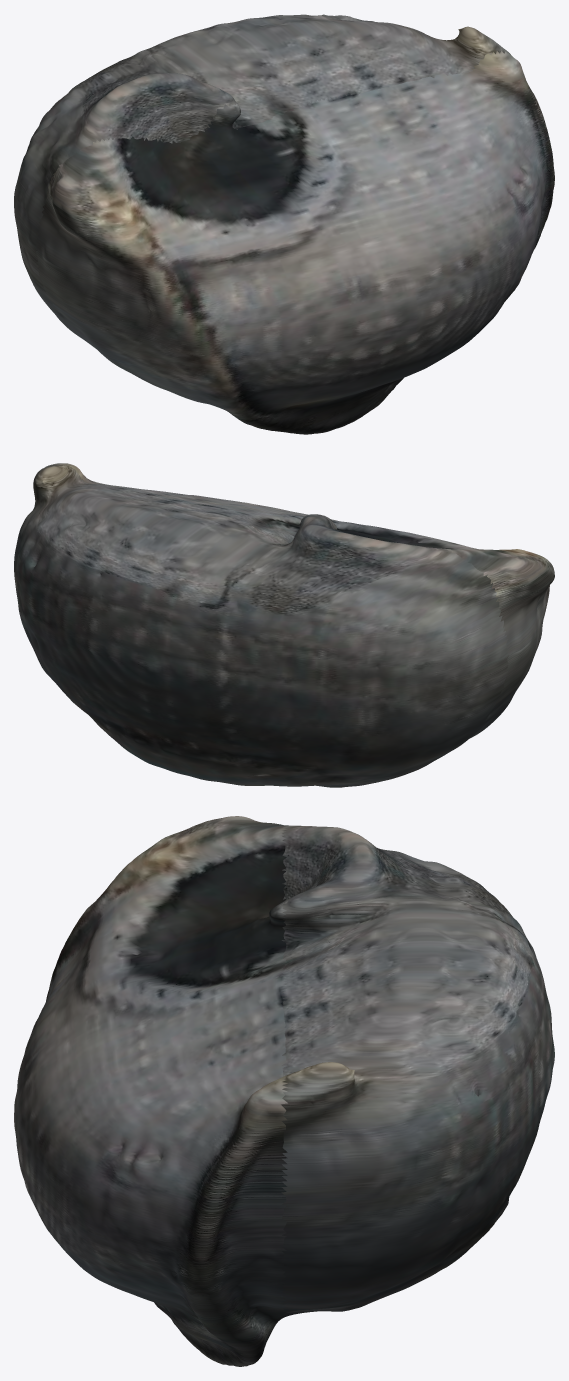
Rendered from kfl-2167.glb.
3 views of the same model, one above another, from view 1: azimuth 30°, elevation 25°; view 2: azimuth 150°, elevation 25°; view 3: azimuth 270°, elevation 25° (orthographic). The views are drawn at different scales.
Parts seen in each view (by area): view 1: geometry_0; view 2: geometry_0; view 3: geometry_0.
Part boxes in pixels (x1,y1,x2,y2): geometry_0: (14, 14, 554, 434); geometry_0: (14, 463, 554, 787); geometry_0: (14, 816, 554, 1366).
Bounding box in the file's own units: 0.9919 × 0.6368 × 0.7607.
1 material, 1 textured.
